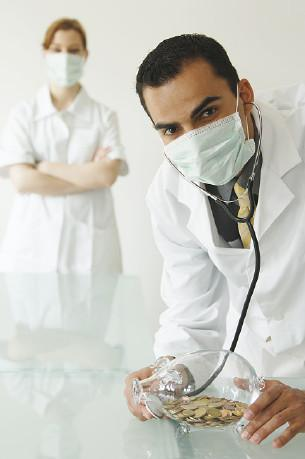OK: (158, 96, 252, 190), (42, 40, 92, 90)
